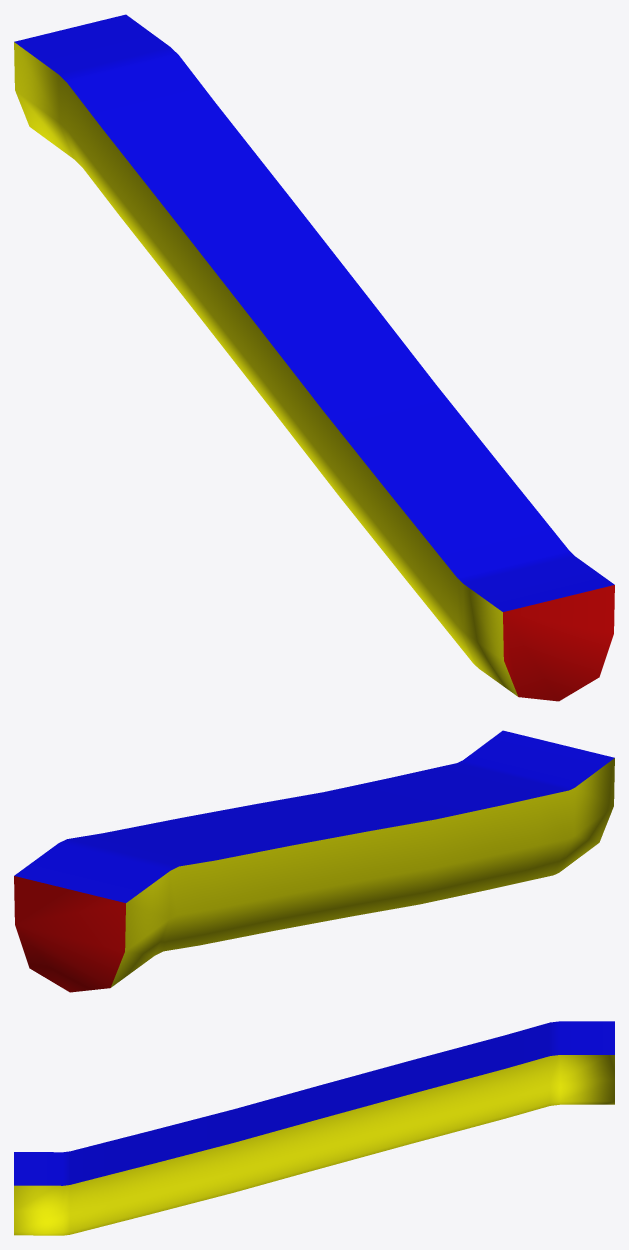
3 renders of one model, top to bottom at view 1: azimuth 30°, elevation 25°; view 2: azimuth 150°, elevation 25°; view 3: azimuth 270°, elevation 25°, orthographic. The views are drawn at different scales.
Parts seen in each view (by area): view 1: polySurface111; view 2: polySurface111; view 3: polySurface111.
Part boxes in pixels (bbox=[...]): polySurface111: bbox=[14, 14, 614, 701]; polySurface111: bbox=[14, 730, 614, 992]; polySurface111: bbox=[14, 1021, 614, 1235].
Size of the model in its own units: 23.58 by 63.53 by 178.
